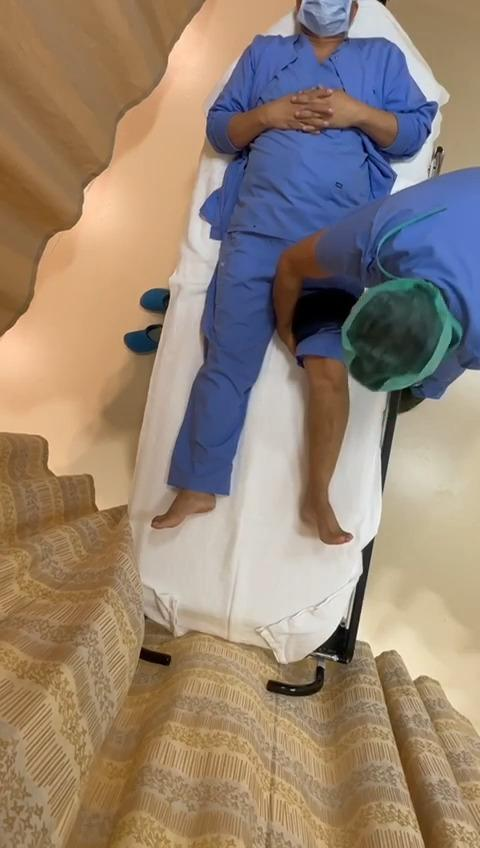patient: (153, 7, 437, 529)
tourniquet: (292, 288, 356, 341)
